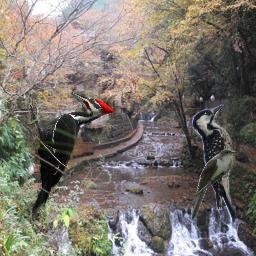Cuckoo: (189, 148, 238, 222)
Woodpecker: (27, 92, 116, 218), (191, 103, 254, 222)
